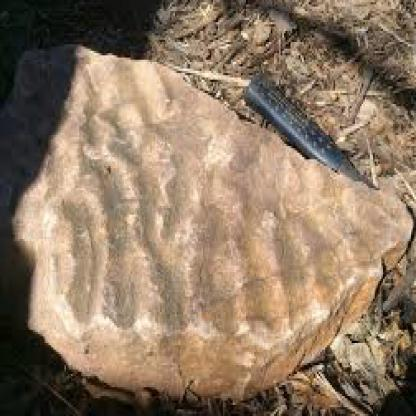Metamorphic_Quartize: (0, 59, 415, 415)
